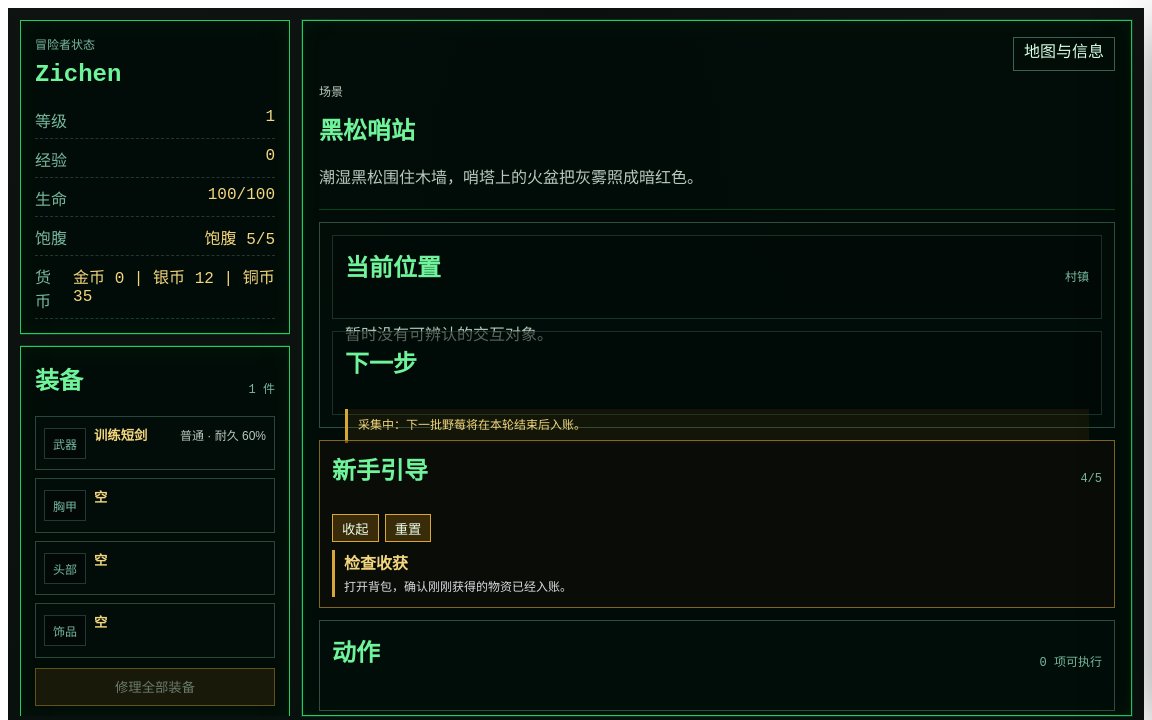
Test: GameShell › disables equipment repair while an action is active
Click the button with aria-label "武器 训练短剑 普通 耐久 60%".
click(155, 443)  # box [35,416,275,470]
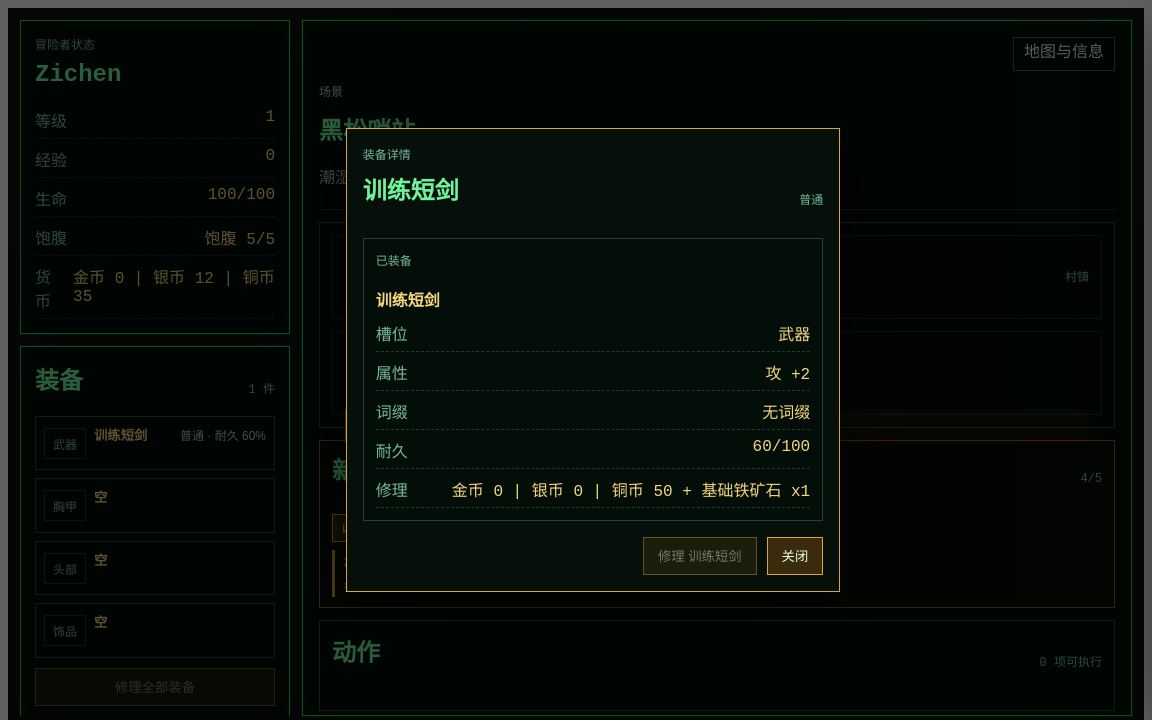
Expected: the button "修理 训练短剑" is disabled, [643,537,757,575]
